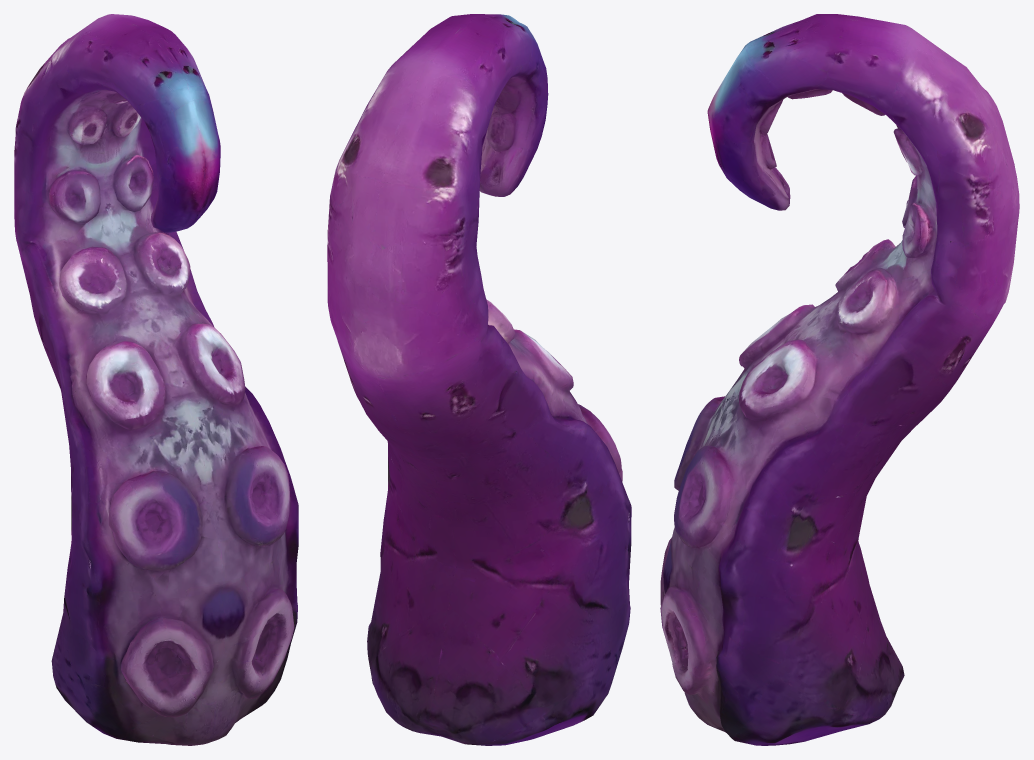
File: amethyst_tendril.glb
3 views of the same model, side by side, from view 1: azimuth 30°, elevation 25°; view 2: azimuth 150°, elevation 25°; view 3: azimuth 270°, elevation 25° (orthographic). The views are drawn at different scales.
Visible parts, largest first — view 1: Mesh_0; view 2: Mesh_0; view 3: Mesh_0.
Boxes of the visible parts, left/top/right/bottom form: Mesh_0: left=14, top=14, right=298, bottom=745; Mesh_0: left=327, top=14, right=631, bottom=745; Mesh_0: left=660, top=14, right=1019, bottom=745.
Bounding box in the file's own units: 0.6144 × 1.9 × 0.8679.
1 material, 1 textured.
